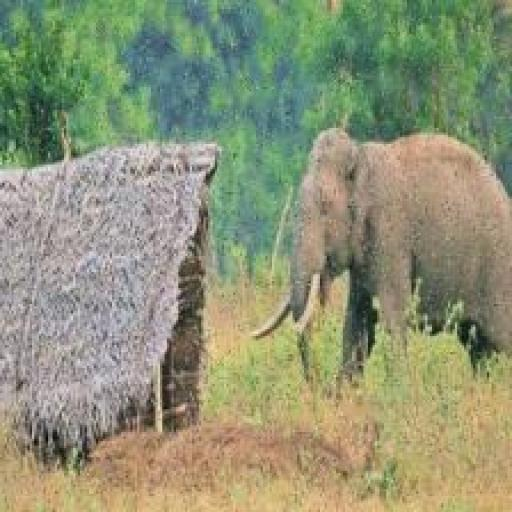Elephant: (249, 126, 512, 418)
